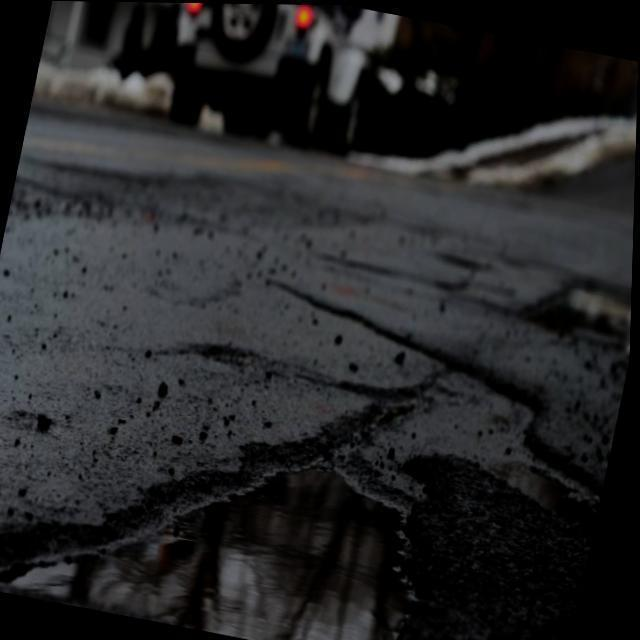Pothole: (0, 363, 607, 640), (529, 273, 634, 355)
